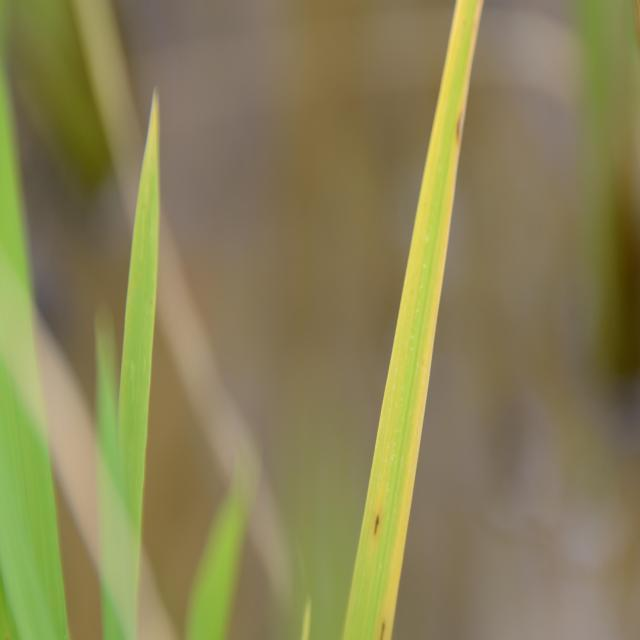Rice Tungro: (288, 12, 485, 640)
